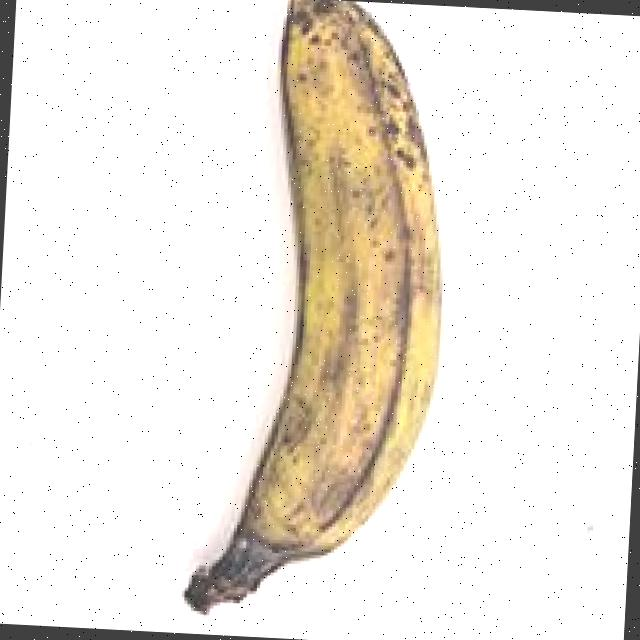Overripe: (161, 0, 500, 635)
